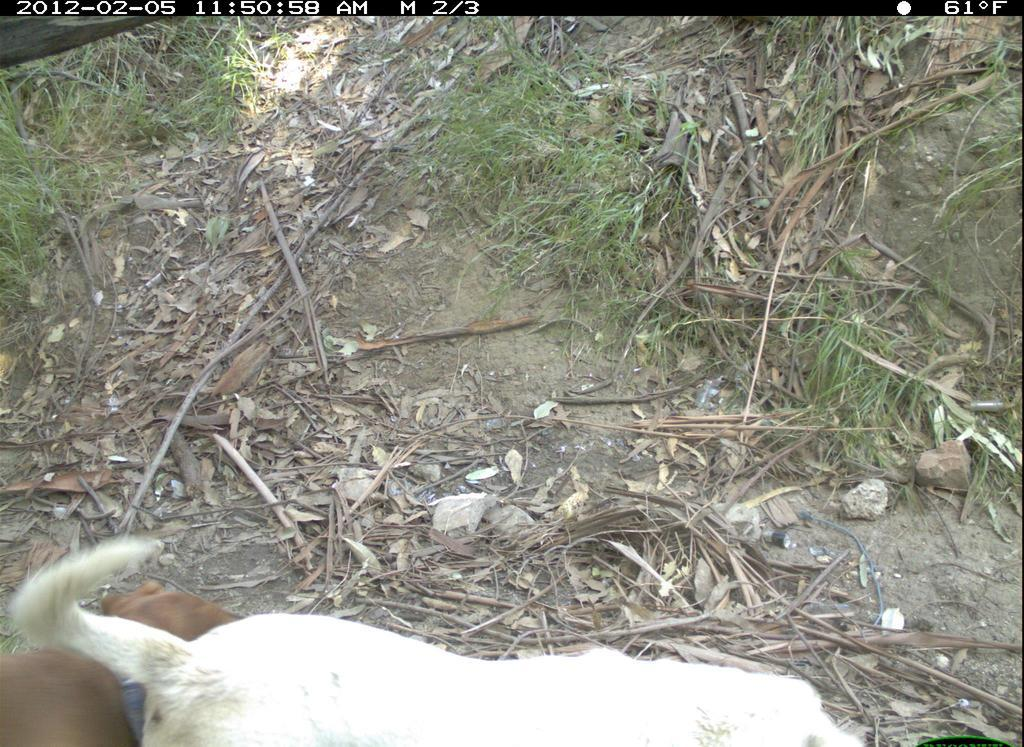dog: (16, 520, 894, 747), (2, 568, 272, 747)
